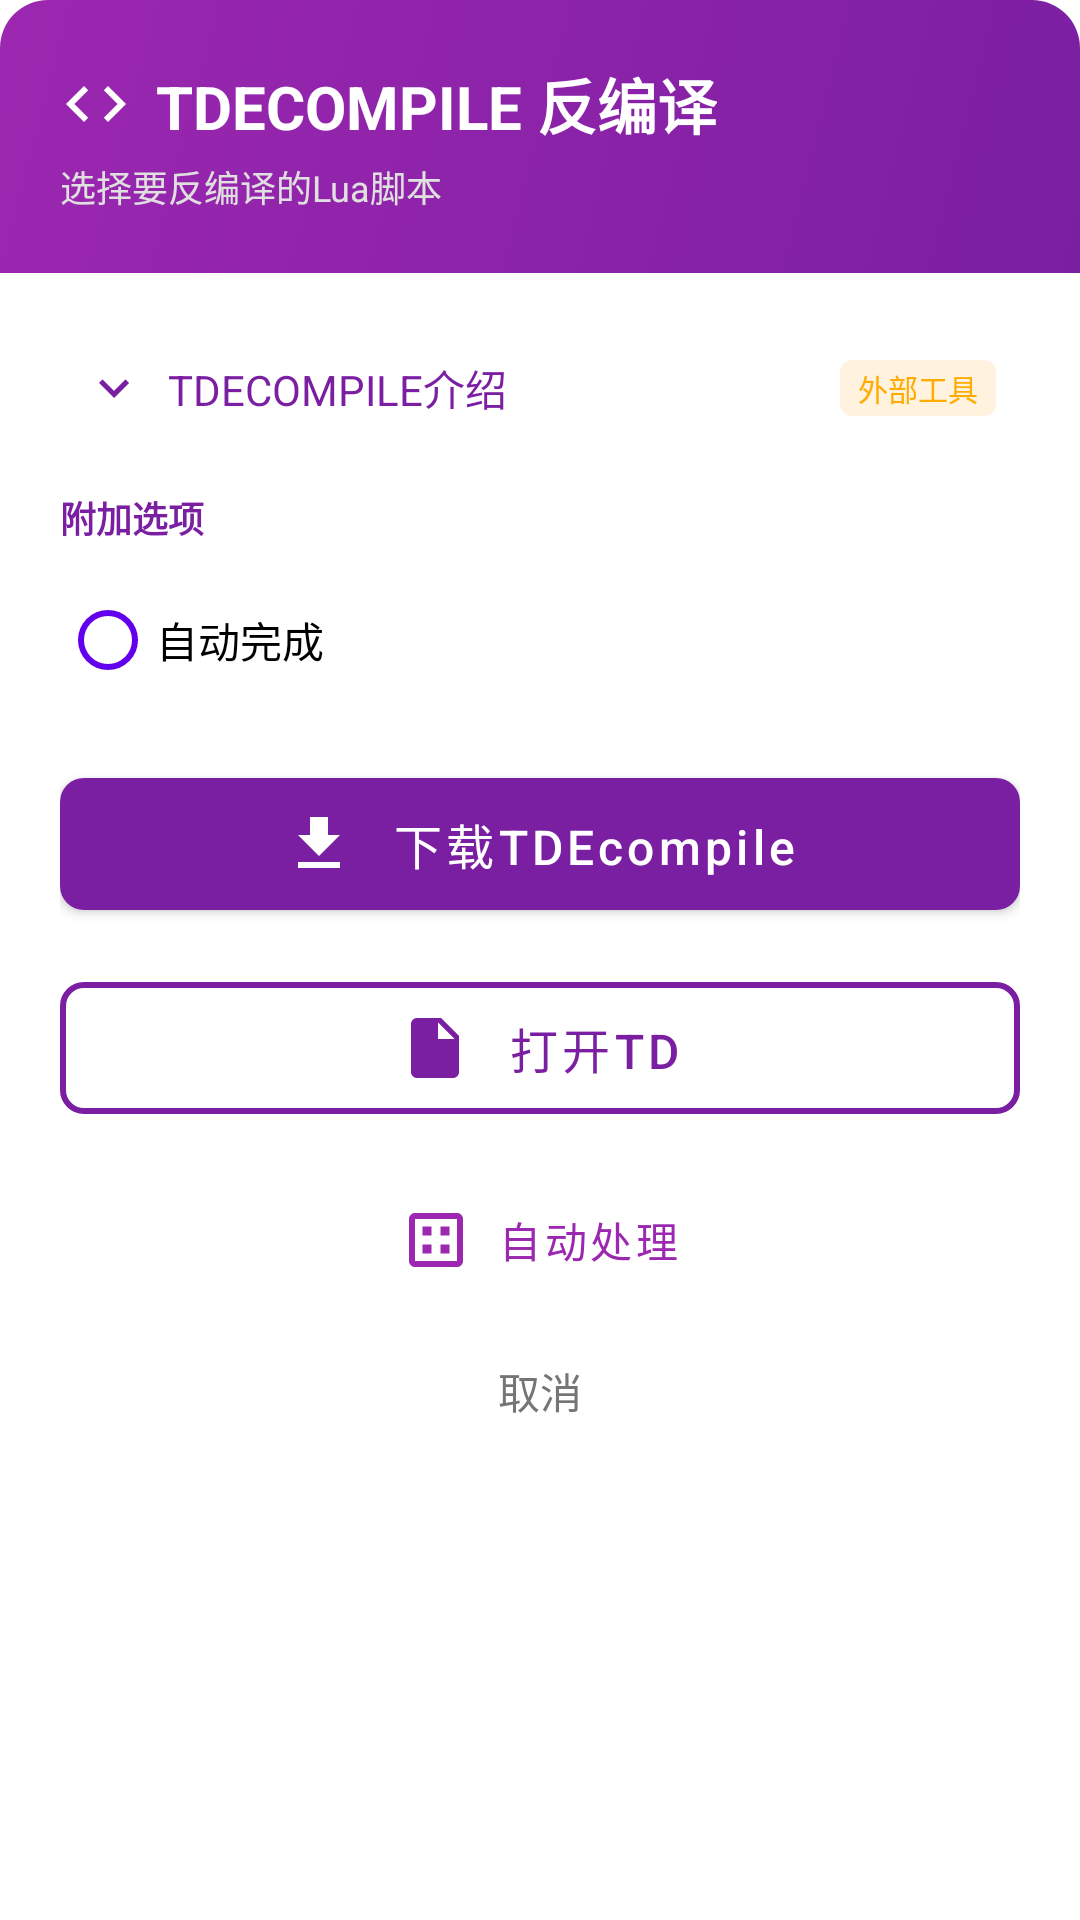

Screen size 1080×1920. Icon name, then its box in pixels as (x1, y1, x2, y2):
code: (66, 86, 126, 122)
expand more: (99, 379, 129, 398)
